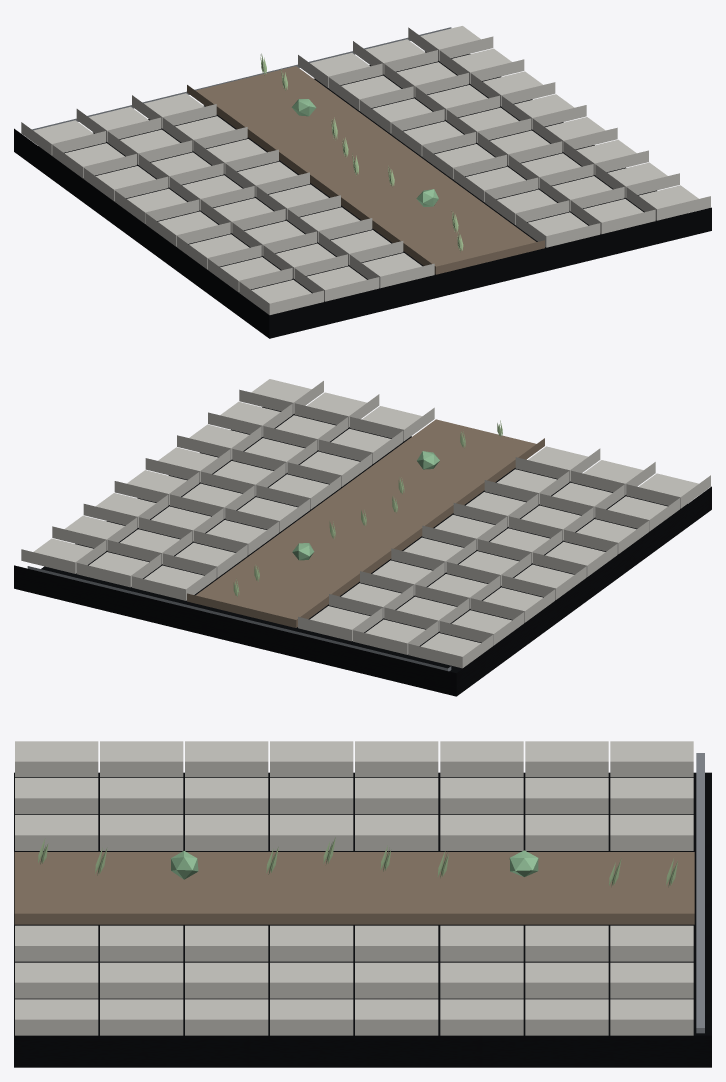
The model's file is v3_deck.glb.
The picture shows the model from 3 angles, top to bottom: view 1: azimuth 30°, elevation 25°; view 2: azimuth 150°, elevation 25°; view 3: azimuth 270°, elevation 25°; orthographic projection. The views are drawn at different scales.
Visible parts, largest first — view 1: Pavers_A, Pavers_B, Grass_Strip, Deck_Slab, Grass_Tufts, Deck_Drain, Moss_Clumps; view 2: Pavers_B, Pavers_A, Grass_Strip, Deck_Slab, Deck_Drain, Grass_Tufts, Moss_Clumps; view 3: Pavers_B, Pavers_A, Grass_Strip, Deck_Slab, Deck_Drain, Grass_Tufts, Moss_Clumps.
Part boxes in pixels (<box>): Pavers_A: <box>21,39,710,301</box>; Pavers_B: <box>52,26,679,314</box>; Grass_Strip: <box>187,66,544,274</box>; Deck_Slab: <box>14,51,711,338</box>; Grass_Tufts: <box>260,53,463,251</box>; Deck_Drain: <box>32,27,451,130</box>; Moss_Clumps: <box>291,99,438,206</box>; Pavers_B: <box>21,392,710,654</box>; Pavers_A: <box>52,379,679,668</box>; Grass_Strip: <box>187,419,544,627</box>; Deck_Slab: <box>14,407,711,696</box>; Deck_Drain: <box>27,566,451,671</box>; Grass_Tufts: <box>233,420,502,596</box>; Moss_Clumps: <box>292,451,439,560</box>; Pavers_B: <box>15,741,693,1035</box>; Pavers_A: <box>15,741,693,1035</box>; Grass_Strip: <box>14,852,694,924</box>; Deck_Slab: <box>14,772,711,1067</box>; Deck_Drain: <box>696,753,704,1033</box>; Grass_Tufts: <box>38,837,677,887</box>; Moss_Clumps: <box>171,850,538,879</box>.
Size of what is drawn, in the model's own units: 4 by 0.4501 by 4.
6 materials, 1 textured.
